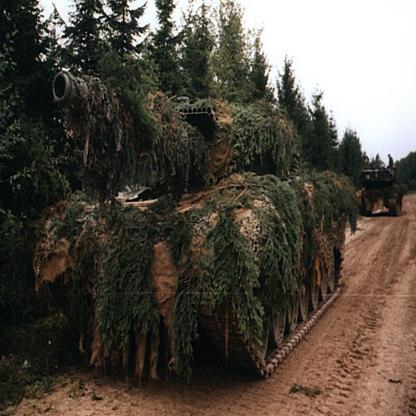Tank: (37, 72, 355, 381)
